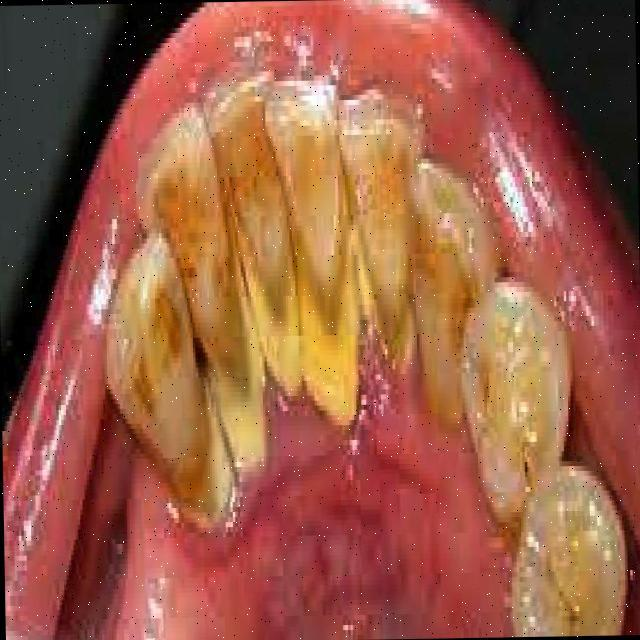calculus: (296, 233, 367, 476), (204, 338, 286, 502), (238, 256, 316, 416)
